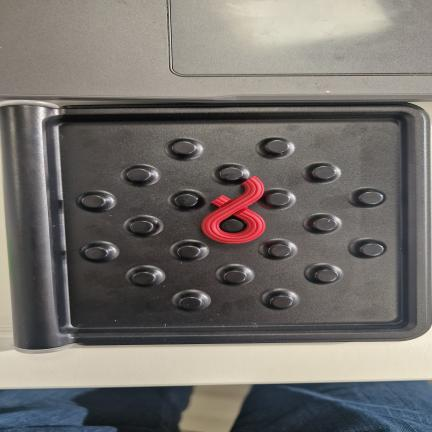J_DarkRed: (202, 177, 265, 243)
board: (0, 104, 432, 351)
hinge: (0, 99, 62, 357)
pin: (220, 216, 246, 233), (265, 139, 289, 154), (172, 141, 196, 155), (127, 168, 151, 182), (219, 167, 243, 181), (312, 165, 336, 179), (359, 191, 383, 205), (130, 220, 154, 234), (81, 195, 106, 208), (177, 245, 200, 259), (179, 296, 202, 310), (266, 193, 290, 206), (174, 194, 198, 207), (313, 218, 337, 231), (360, 243, 384, 256), (132, 272, 156, 285), (85, 247, 108, 260), (224, 270, 247, 283), (315, 269, 338, 282), (270, 295, 293, 308), (269, 244, 291, 257)
